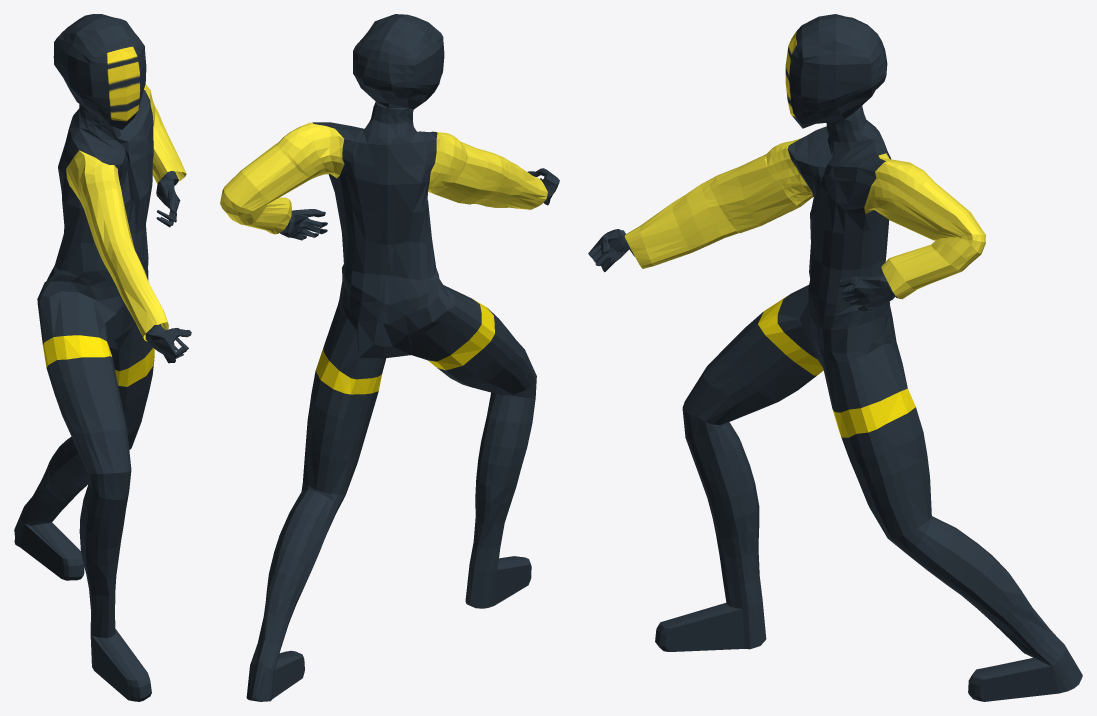
File: Sentry_WF_000026.obj
3 views of the same model, side by side, from view 1: azimuth 30°, elevation 25°; view 2: azimuth 150°, elevation 25°; view 3: azimuth 270°, elevation 25° (orthographic). The views are drawn at different scales.
Parts seen in each view (by area): view 1: Cube; view 2: Cube; view 3: Cube.
Part boxes in pixels (x1,y1,x2,y2): Cube: (14,14,191,701); Cube: (220,14,559,701); Cube: (588,14,1082,701).
Size of the model in its own units: 1.18 by 3.62 by 2.46.
